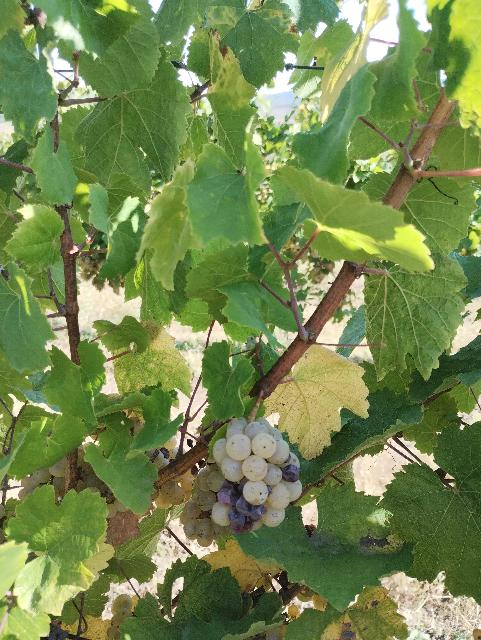grapes: (181, 418, 302, 546)
